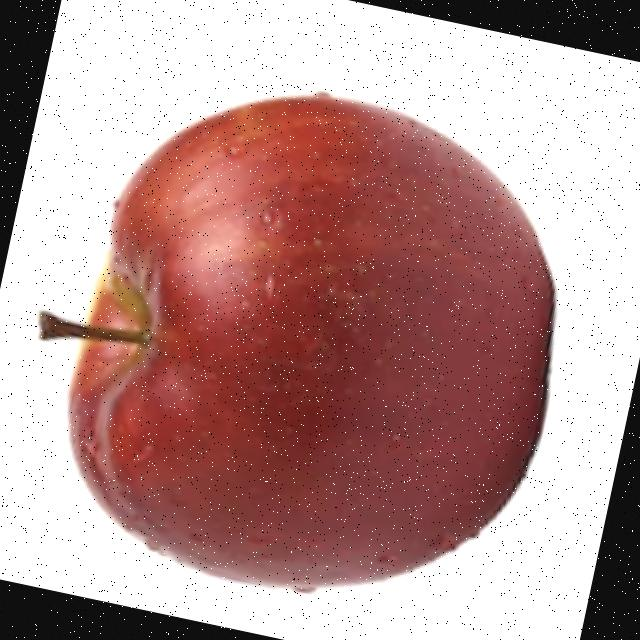Ripe: (25, 49, 602, 640)
